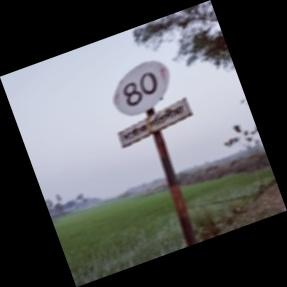Speed-limit: (112, 59, 189, 151)
